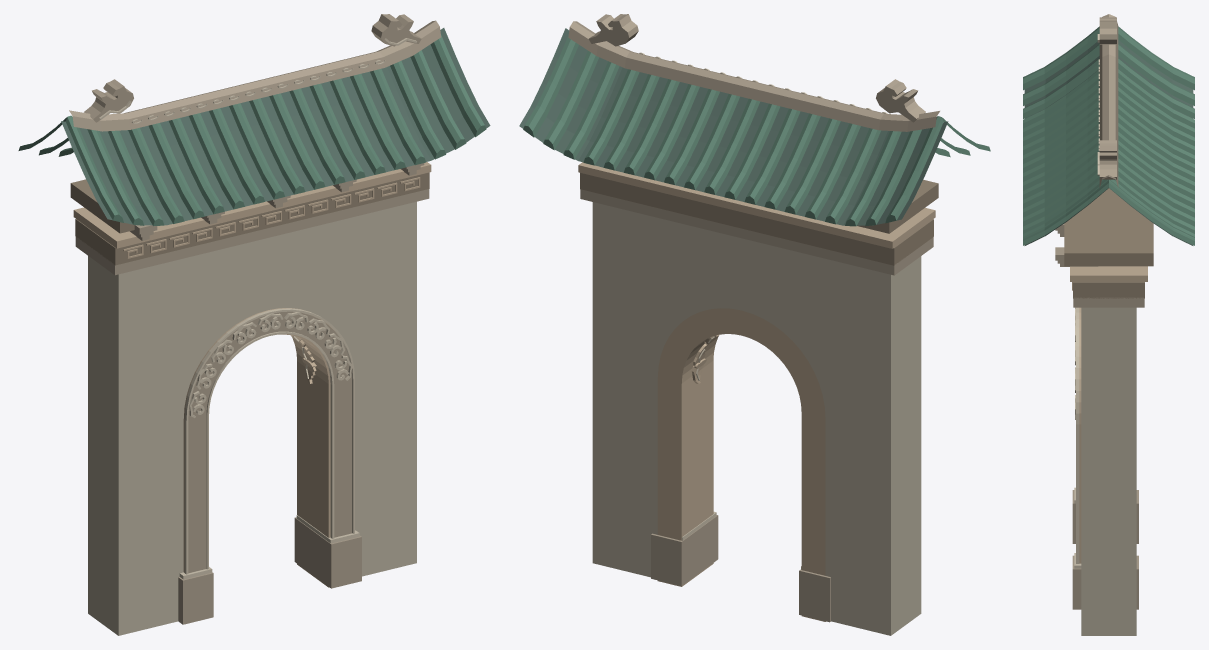
The model's file is xuhui-wu-residence-five-bat-garden-gate-lod.glb.
The picture shows the model from 3 angles, left to right: view 1: azimuth 30°, elevation 25°; view 2: azimuth 150°, elevation 25°; view 3: azimuth 270°, elevation 25°; orthographic projection. The views are drawn at different scales.
Visible parts, largest first — view 1: 吴氏花园住宅庭院五蝠石券仪门; view 2: 吴氏花园住宅庭院五蝠石券仪门; view 3: 吴氏花园住宅庭院五蝠石券仪门.
Boxes of the visible parts, x1,y1,x2,y2 form: 吴氏花园住宅庭院五蝠石券仪门: [18, 14, 490, 635]; 吴氏花园住宅庭院五蝠石券仪门: [519, 14, 990, 635]; 吴氏花园住宅庭院五蝠石券仪门: [1023, 14, 1194, 635].
Bounding box in the file's own units: 3.9 × 5.26 × 1.67.
